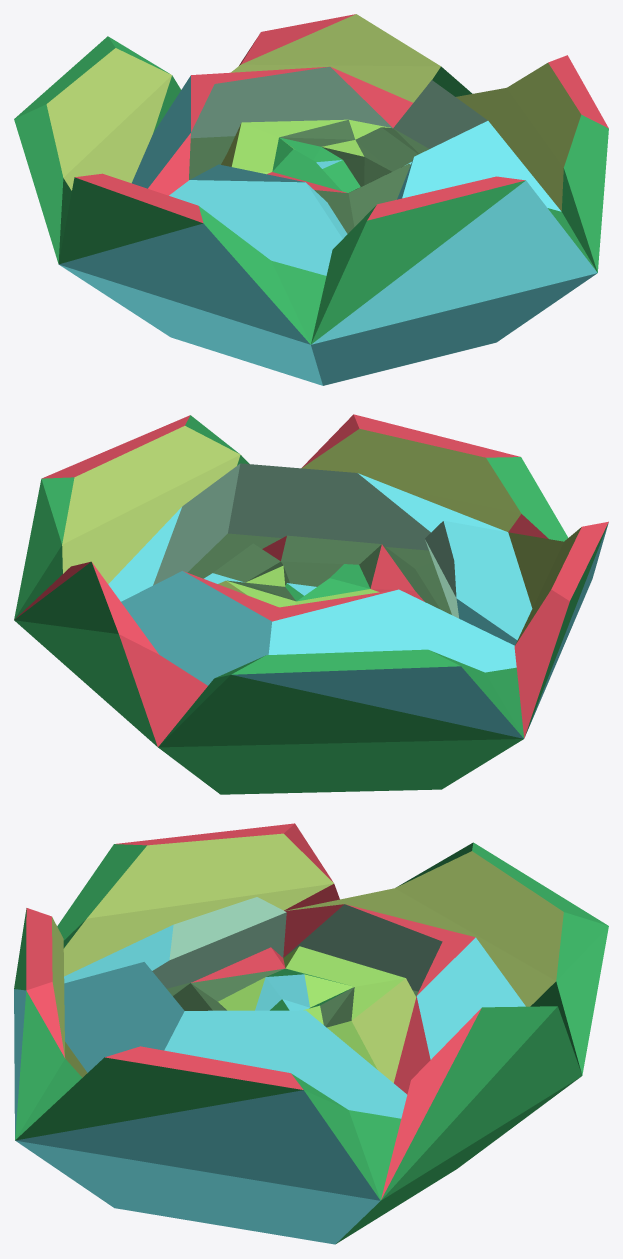
Rendered from Garden_SucculentBunch02.fbx.
The picture shows the model from 3 angles, top to bottom: view 1: azimuth 30°, elevation 25°; view 2: azimuth 150°, elevation 25°; view 3: azimuth 270°, elevation 25°; orthographic projection. The views are drawn at different scales.
Visible parts, largest first — view 1: Cylinder.090; view 2: Cylinder.090; view 3: Cylinder.090.
Part boxes in pixels (<box>): Cylinder.090: <box>14,14,608,385</box>; Cylinder.090: <box>14,414,608,794</box>; Cylinder.090: <box>14,823,608,1244</box>.
Size of the model in its own units: 19.5 by 7.75 by 18.54.
